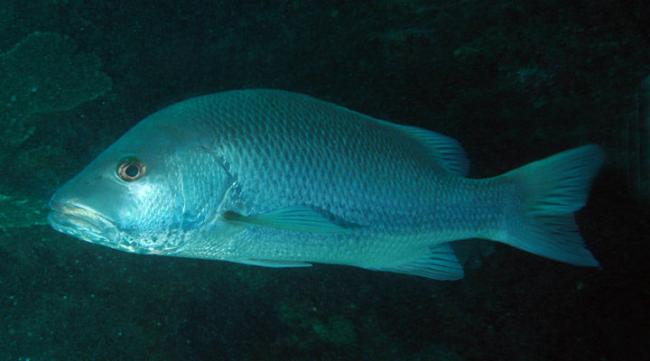fish: (48, 88, 605, 282)
